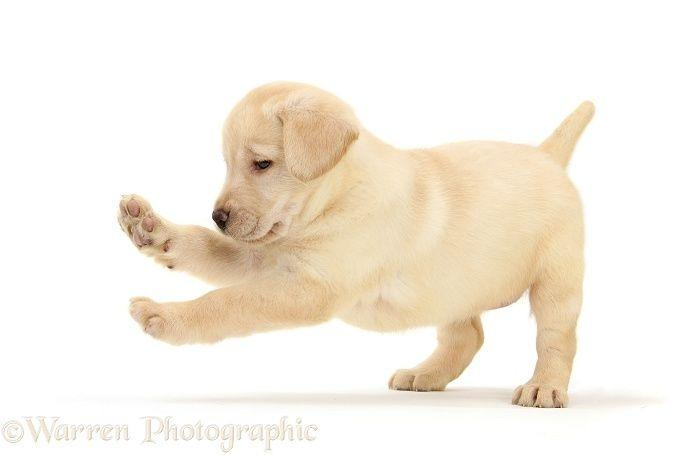puppy-dog: (114, 77, 598, 408)
